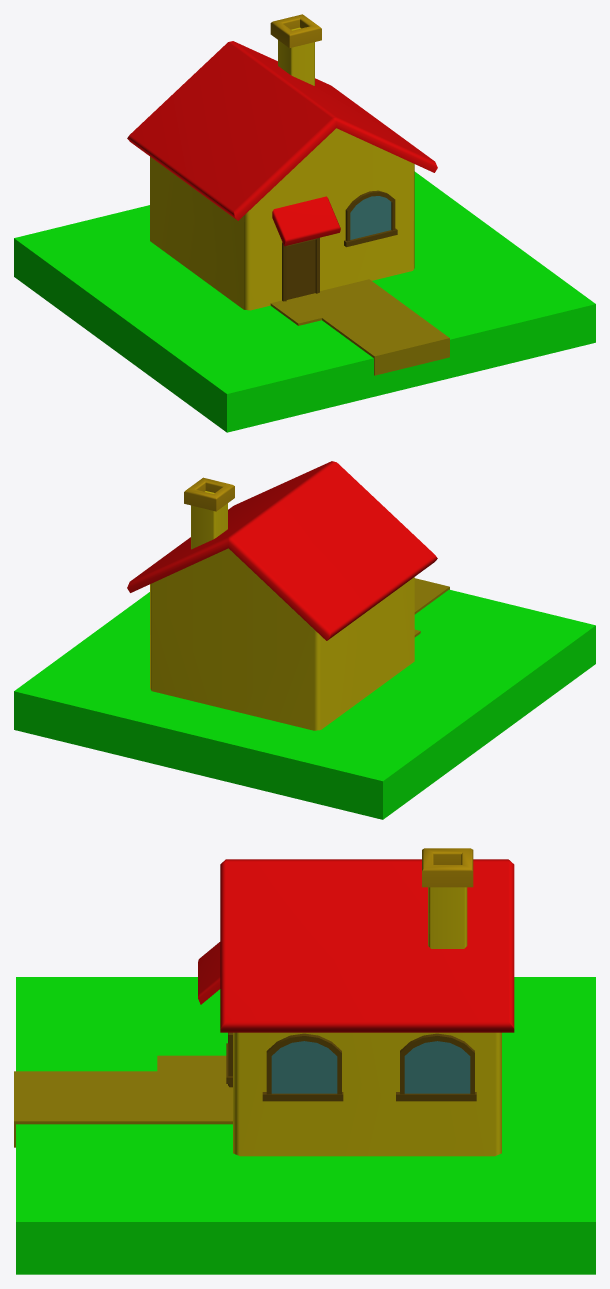
File: GeneConcept_01_SM.fbx
The picture shows the model from 3 angles, top to bottom: view 1: azimuth 30°, elevation 25°; view 2: azimuth 150°, elevation 25°; view 3: azimuth 270°, elevation 25°; orthographic projection. The views are drawn at different scales.
Parts seen in each view (by area): view 1: pCube106; view 2: pCube106; view 3: pCube106.
Boxes of the visible parts, left/top/right/bottom form: pCube106: left=14, top=14, right=595, bottom=432; pCube106: left=14, top=461, right=595, bottom=819; pCube106: left=14, top=848, right=595, bottom=1274.
Size of the model in its own units: 100 by 61.35 by 100.
